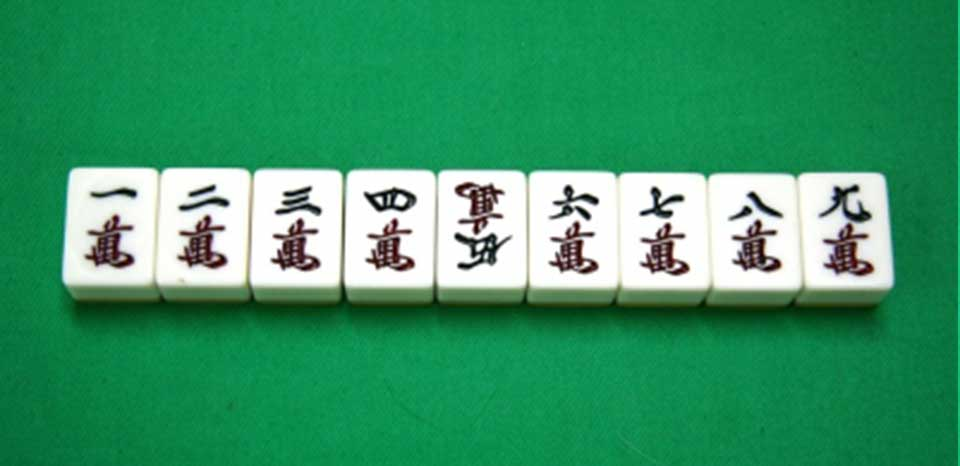man_1: (65, 165, 154, 297)
man_2: (156, 167, 245, 295)
man_3: (245, 172, 338, 303)
man_4: (345, 172, 440, 303)
man_5: (443, 169, 531, 308)
man_6: (533, 172, 622, 310)
man_7: (625, 174, 709, 306)
man_8: (706, 174, 804, 303)
man_9: (804, 176, 891, 308)
